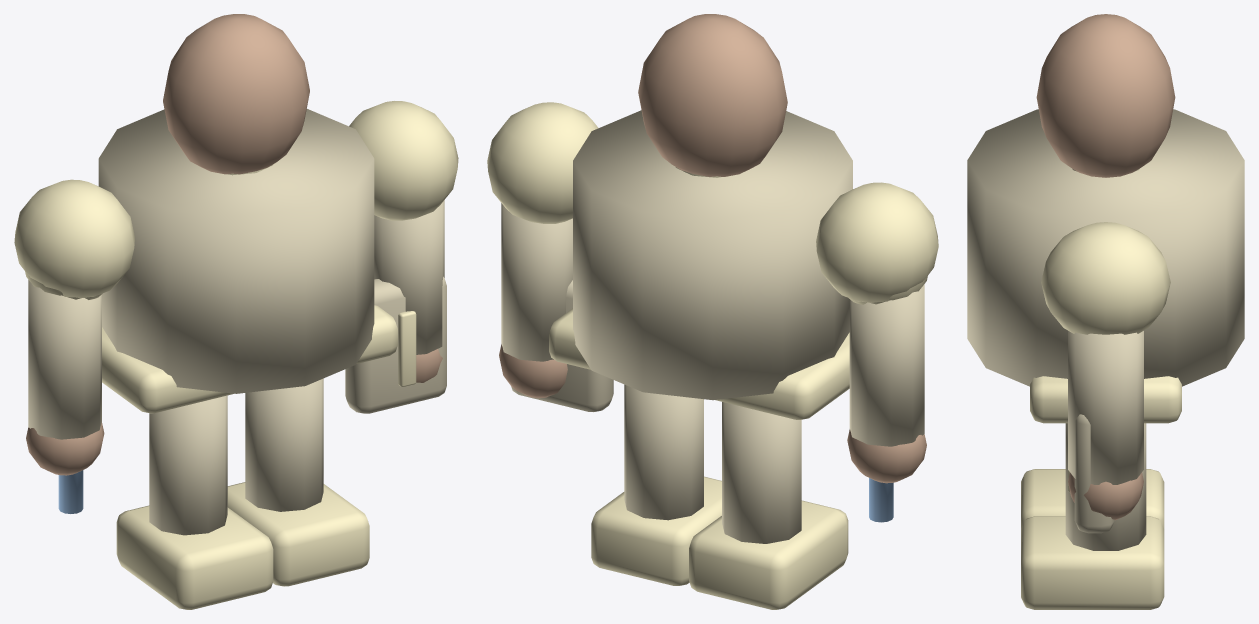
Rendered from Cleric_Placeholder.glb.
3 renders of one model, left to right at view 1: azimuth 30°, elevation 25°; view 2: azimuth 150°, elevation 25°; view 3: azimuth 270°, elevation 25°, orthographic.
Parts seen in each view (by area): view 1: Cleric_Placeholder_Export; view 2: Cleric_Placeholder_Export; view 3: Cleric_Placeholder_Export.
Boxes of the visible parts, box(x1,y1,x2,y2) form: Cleric_Placeholder_Export: box(14, 14, 458, 609); Cleric_Placeholder_Export: box(487, 14, 938, 609); Cleric_Placeholder_Export: box(967, 14, 1244, 609).
Bounding box in the file's own units: 133 × 162 × 74.4.
